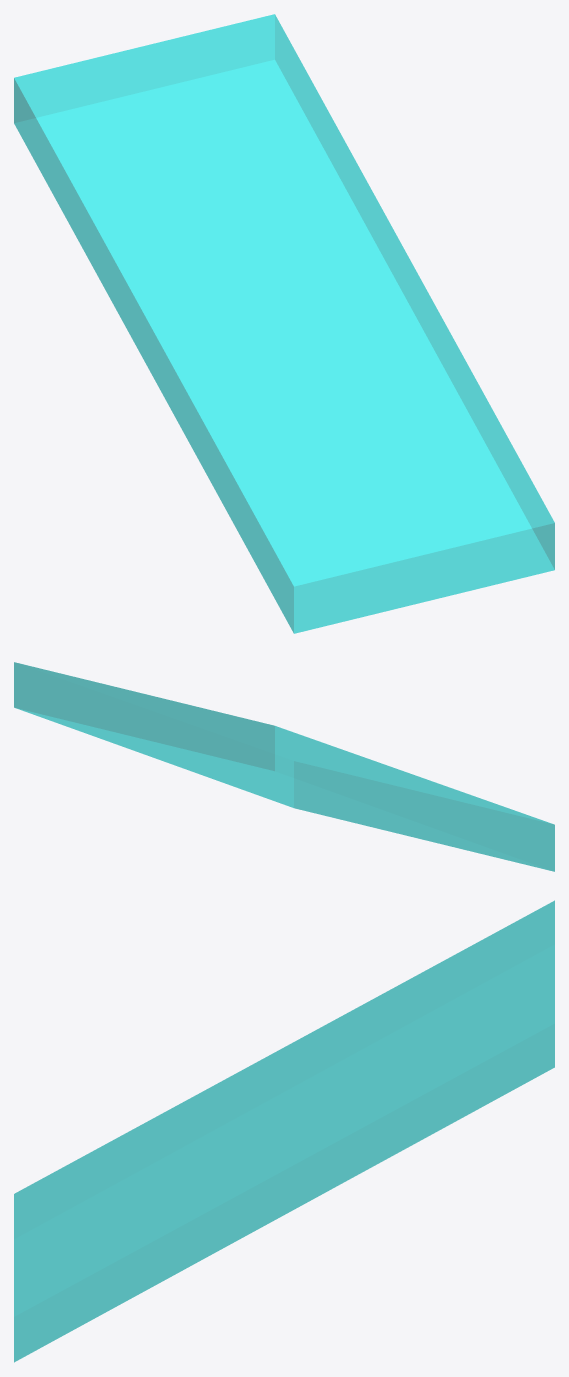
File: SM_Bld_Dock_Wood_Stairs_03_Collision.fbx
3 renders of one model, top to bottom at view 1: azimuth 30°, elevation 25°; view 2: azimuth 150°, elevation 25°; view 3: azimuth 270°, elevation 25°, orthographic. The views are drawn at different scales.
Parts seen in each view (by area): view 1: SM_Bld_Dock_Wood_Stairs_03_Collision; view 2: SM_Bld_Dock_Wood_Stairs_03_Collision; view 3: SM_Bld_Dock_Wood_Stairs_03_Collision.
Boxes of the visible parts, <box> form: SM_Bld_Dock_Wood_Stairs_03_Collision: <box>14,14,554,633</box>; SM_Bld_Dock_Wood_Stairs_03_Collision: <box>14,662,554,871</box>; SM_Bld_Dock_Wood_Stairs_03_Collision: <box>14,900,554,1362</box>.
Size of the model in its own units: 135 by 173 by 250.
